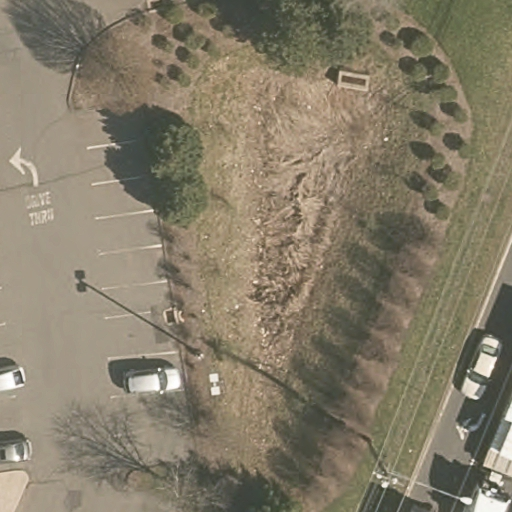DT: (357, 433, 415, 498)
